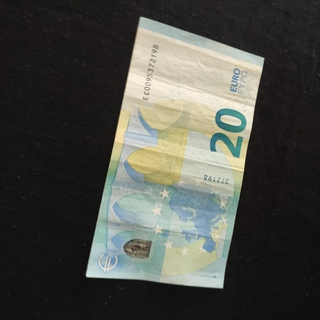20EUROBack: (85, 16, 264, 289)
